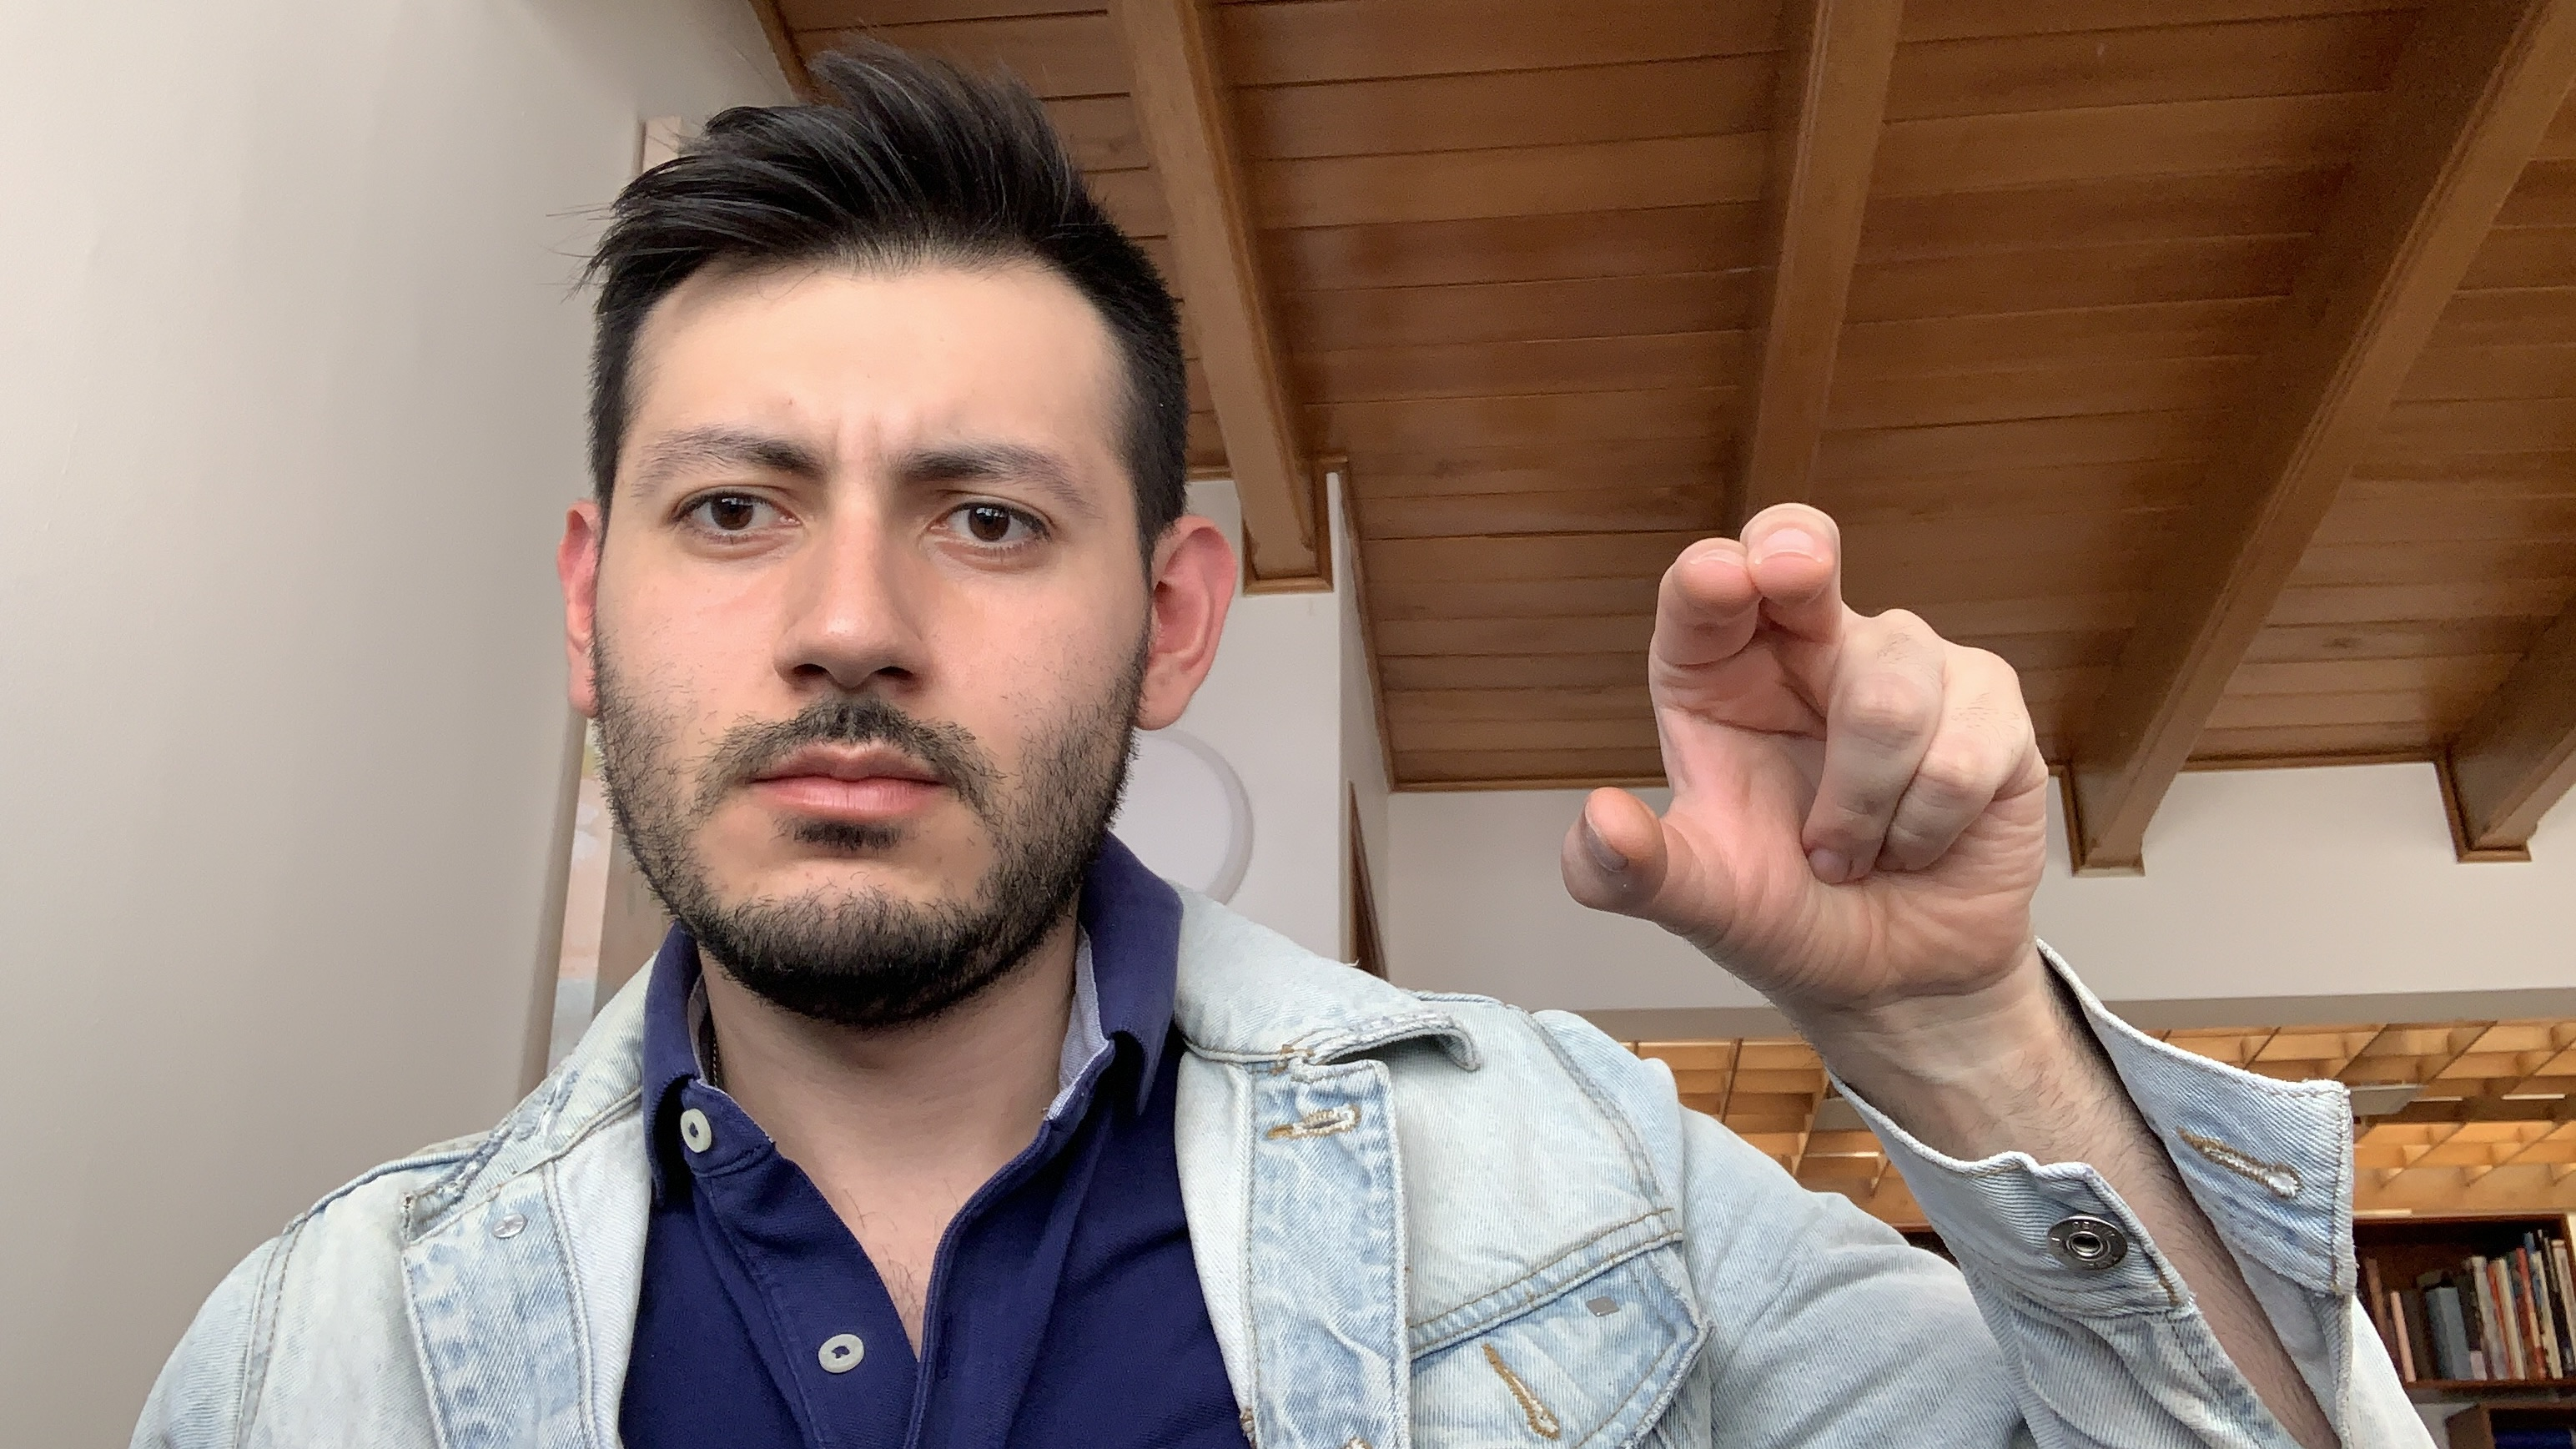No: (1550, 492, 2088, 1044)
